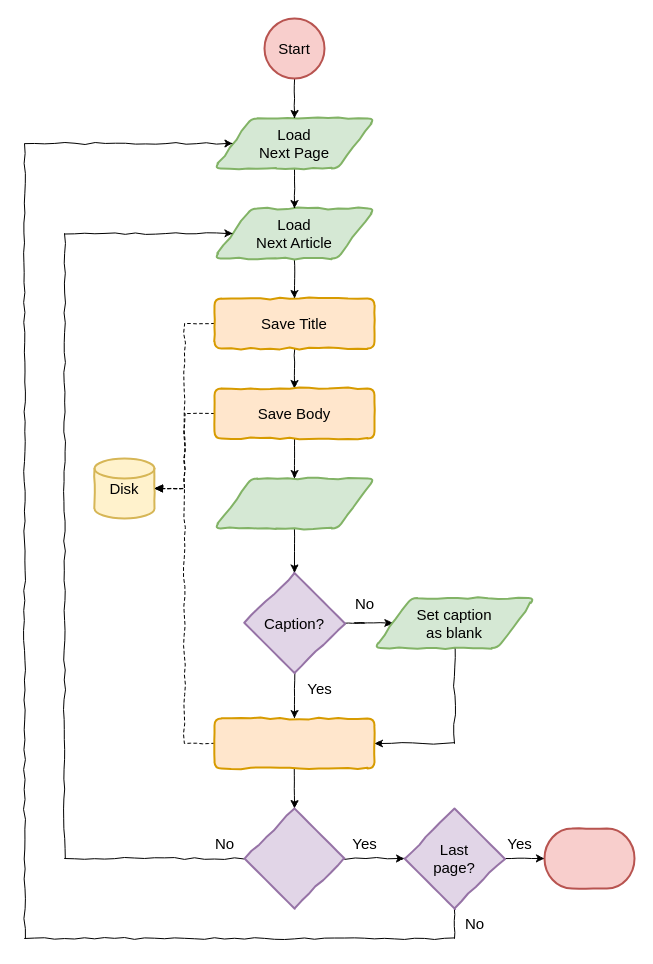
Image size: 653x964. Some labels were removed from this diagram. The centre of each missing label's shape, as x and y in pixels:
Download Image: [294,503]
End: [589,858]
Last article?: [294,858]
Save Image+Caption Pair: [294,743]
